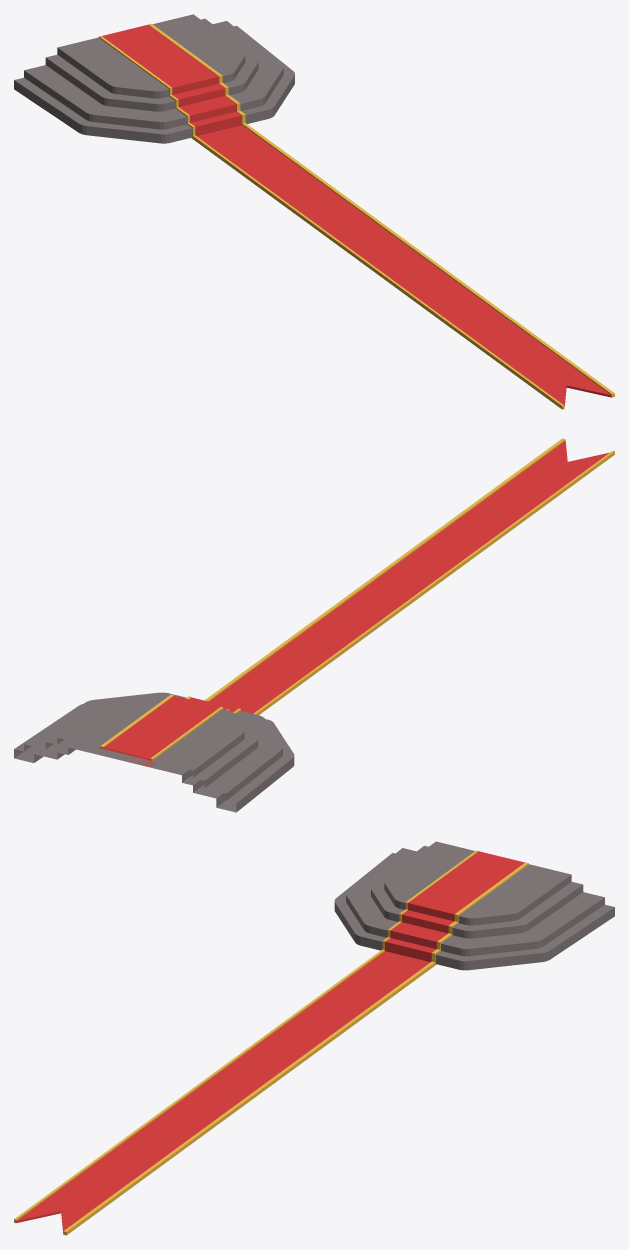
The model's file is B_Carper&Stairs.fbx.
3 views of the same model, one above another, from view 1: azimuth 30°, elevation 25°; view 2: azimuth 150°, elevation 25°; view 3: azimuth 330°, elevation 25° (orthographic).
Parts seen in each view (by area): view 1: Matt, Throne floor; view 2: Matt, Throne floor; view 3: Matt, Throne floor.
Part boxes in pixels (box(x1,y1,x2,y2)): Matt: box(98, 23, 614, 409); Throne floor: box(14, 14, 294, 143); Matt: box(100, 438, 614, 766); Throne floor: box(14, 692, 294, 812); Matt: box(14, 850, 528, 1235); Throne floor: box(334, 841, 614, 970).
Bounding box in the file's own units: 1857 × 271 × 6694.
